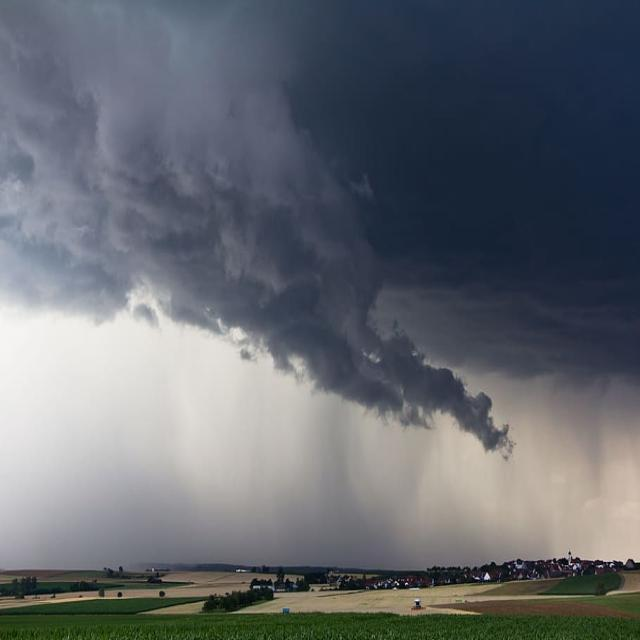cumulonimbus: (4, 0, 640, 553)
